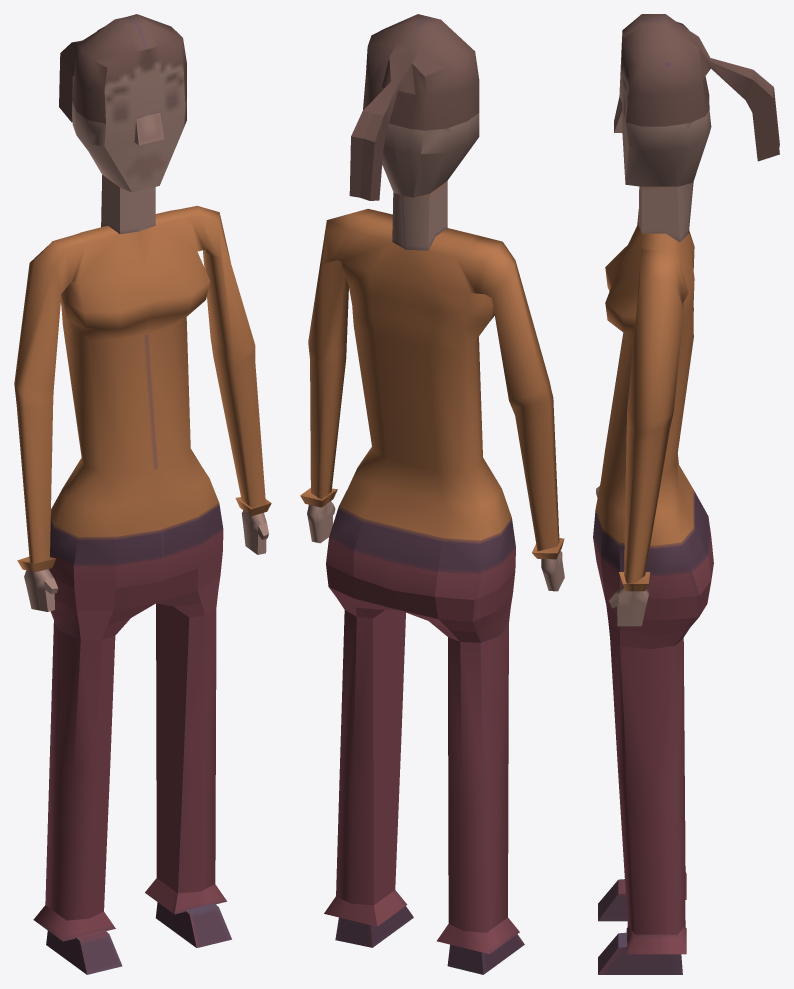
File: Ladyfini.fbx
The picture shows the model from 3 angles, left to right: view 1: azimuth 30°, elevation 25°; view 2: azimuth 150°, elevation 25°; view 3: azimuth 270°, elevation 25°; orthographic projection.
Visible parts, largest first — view 1: pCube11; view 2: pCube11; view 3: pCube11.
Part boxes in pixels (x1=…): pCube11: x1=14, y1=14, x2=271, y2=974; pCube11: x1=300, y1=14, x2=564, y2=974; pCube11: x1=593, y1=14, x2=779, y2=974.
Bounding box in the file's own units: 36.86 × 130 × 23.95.
